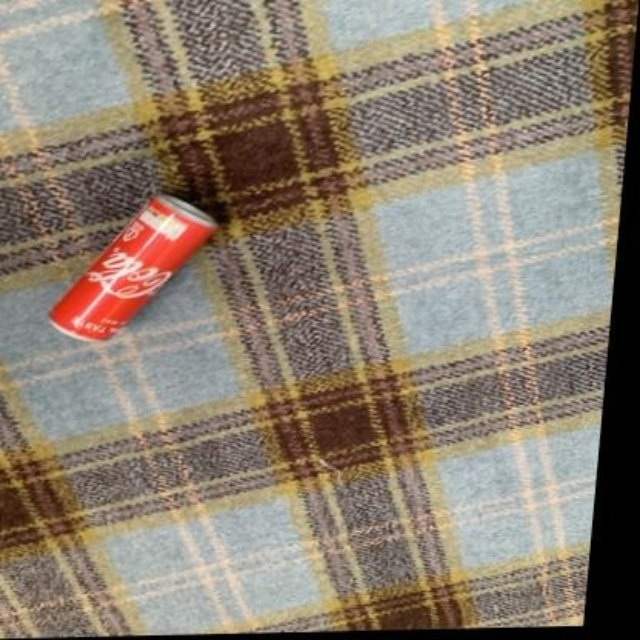trash: (49, 195, 217, 338)
